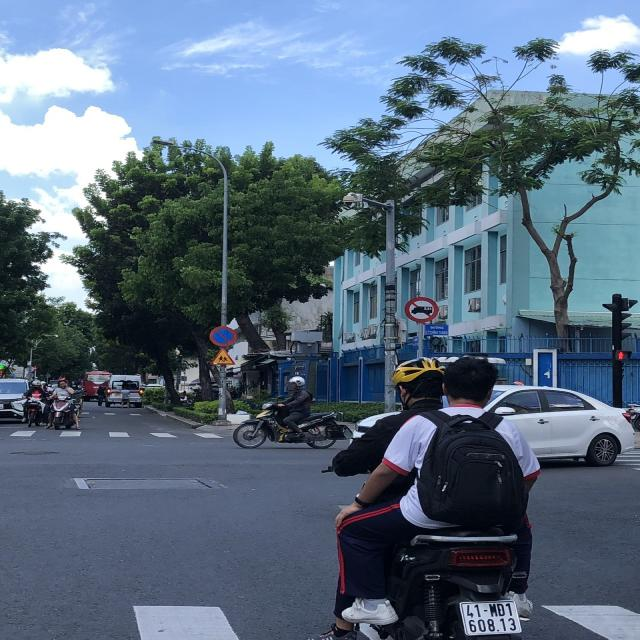Bien bao cam xe oto: (403, 295, 440, 323)
Bien bao tre em: (210, 348, 237, 366)
